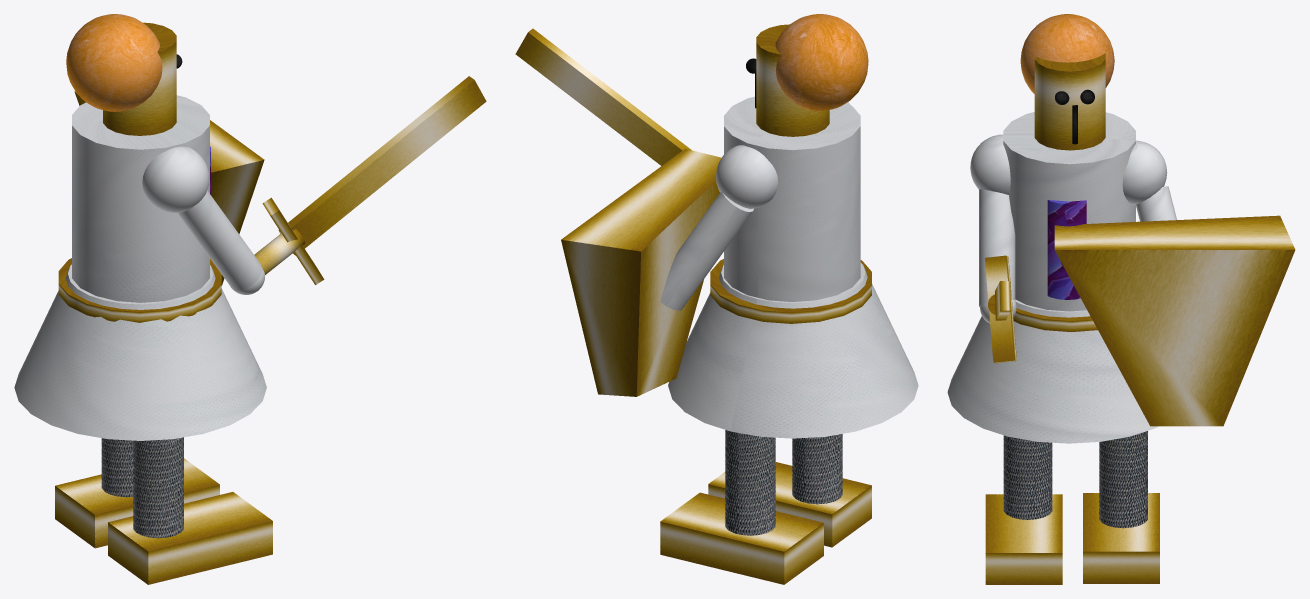
The model's file is GUERRERO_NIVEL_3.fbx.
3 views of the same model, side by side, from view 1: azimuth 30°, elevation 25°; view 2: azimuth 150°, elevation 25°; view 3: azimuth 270°, elevation 25° (orthographic). The views are drawn at different scales.
Visible parts, largest first — view 1: Cone001, Cylinder003, Box001, Sphere020, Box007, Cylinder001, Box002, Cylinder010, Box011, Cylinder004, Sphere001, Cylinder005 (+3 smaller); view 2: Cone001, Box011, Cylinder003, Box002, Sphere020, Box007, Cylinder002, Cylinder017, Box001, Cylinder004, Cylinder001, Cylinder005 (+1 smaller); view 3: Box011, Cone001, Cylinder003, Box001, Cylinder004, Box002, Cylinder002, Sphere020, Cylinder001, Cylinder010, Cylinder019, Sphere019 (+5 smaller).
Boxes of the visible parts, <box> form: Cone001: <box>14,264,266,440</box>; Cylinder003: <box>72,95,209,302</box>; Box001: <box>108,492,272,584</box>; Sphere020: <box>66,14,162,111</box>; Box007: <box>278,76,486,255</box>; Cylinder001: <box>133,437,183,538</box>; Box002: <box>55,458,219,548</box>; Cylinder010: <box>177,190,262,290</box>; Box011: <box>74,91,264,285</box>; Cylinder004: <box>103,22,176,135</box>; Sphere001: <box>142,146,209,212</box>; Cylinder005: <box>58,258,221,322</box>; Cone001: <box>668,262,918,438</box>; Box011: <box>561,148,721,396</box>; Cylinder003: <box>724,96,860,301</box>; Box002: <box>660,492,823,584</box>; Sphere020: <box>775,14,868,110</box>; Box007: <box>515,28,691,165</box>; Cylinder002: <box>725,430,775,535</box>; Cylinder017: <box>660,192,753,310</box>; Box001: <box>708,462,871,547</box>; Cylinder004: <box>756,24,829,136</box>; Cylinder001: <box>792,434,842,504</box>; Cylinder005: <box>710,259,871,323</box>; Box011: <box>1054,215,1295,426</box>; Cone001: <box>947,299,1158,443</box>; Cylinder003: <box>1003,112,1135,311</box>; Box001: <box>985,494,1062,584</box>; Cylinder004: <box>1034,53,1105,150</box>; Box002: <box>1083,493,1159,583</box>; Cylinder002: <box>1099,431,1147,528</box>; Sphere020: <box>1020,14,1114,93</box>; Cylinder001: <box>1003,435,1052,519</box>; Cylinder010: <box>979,189,1015,306</box>; Cylinder019: <box>1047,200,1086,299</box>; Sphere019: <box>1122,140,1167,204</box>.
Bounding box in the file's own units: 0.3809 × 0.4618 × 0.2842.
Materials: 6 (6 with a texture image).
